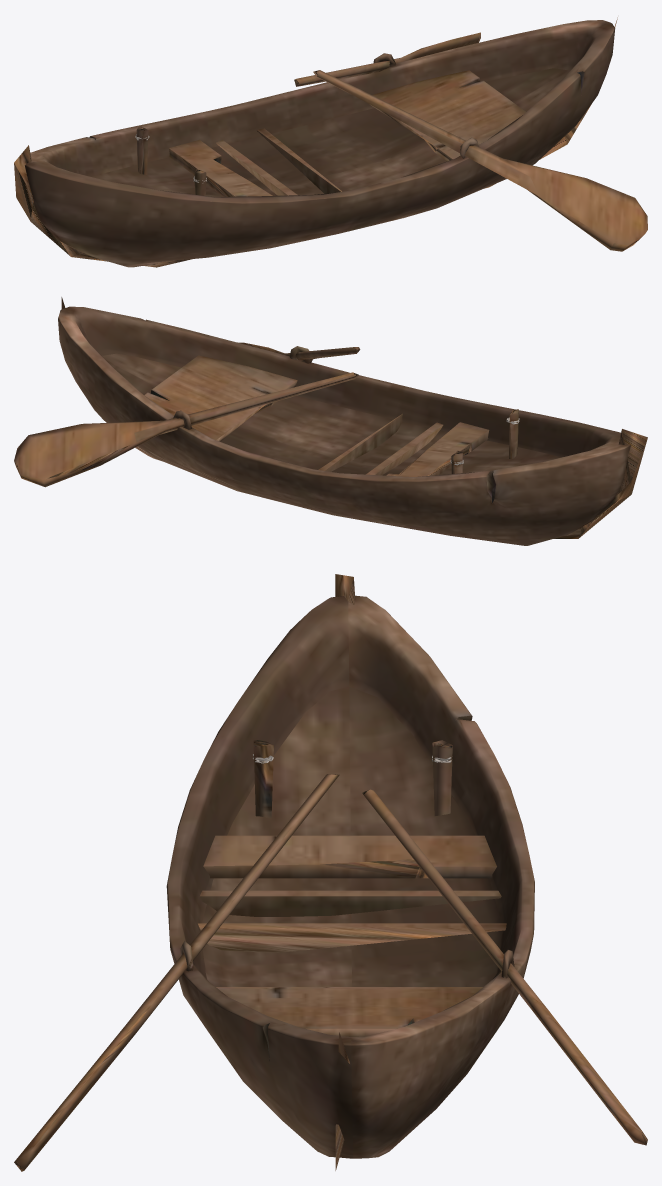
Rendered from thuyen-go-cu.glb.
3 views of the same model, one above another, from view 1: azimuth 30°, elevation 25°; view 2: azimuth 150°, elevation 25°; view 3: azimuth 270°, elevation 25° (orthographic). The views are drawn at different scales.
Parts seen in each view (by area): view 1: Body, A_4, polySurface4, polySurface3, A_1, polySurface1, polySurface2, polySurface5; view 2: Body, A_4, polySurface4, polySurface3, A_1, polySurface1, polySurface2, polySurface6; view 3: Body, A_4, polySurface3, polySurface4, polySurface1, polySurface2, polySurface6, polySurface5, A_1.
Part boxes in pixels (bbox=[...]): Body: bbox=[25, 20, 615, 267]; A_4: bbox=[294, 32, 647, 251]; polySurface4: bbox=[370, 70, 525, 161]; polySurface3: bbox=[169, 139, 272, 196]; A_1: bbox=[14, 17, 617, 267]; polySurface1: bbox=[257, 128, 341, 193]; polySurface2: bbox=[216, 140, 297, 195]; polySurface5: bbox=[136, 126, 148, 174]; Body: bbox=[58, 306, 630, 545]; A_4: bbox=[14, 342, 360, 487]; polySurface4: bbox=[144, 355, 297, 441]; polySurface3: bbox=[386, 422, 489, 476]; A_1: bbox=[61, 297, 647, 538]; polySurface1: bbox=[318, 413, 402, 471]; polySurface2: bbox=[366, 422, 443, 475]; polySurface6: bbox=[509, 409, 518, 458]; Body: bbox=[166, 595, 534, 1158]; A_4: bbox=[14, 774, 647, 1171]; polySurface3: bbox=[203, 835, 496, 878]; polySurface4: bbox=[216, 987, 482, 1036]; polySurface1: bbox=[198, 923, 506, 952]; polySurface2: bbox=[199, 890, 501, 916]; polySurface6: bbox=[253, 740, 273, 817]; polySurface5: bbox=[432, 740, 452, 815]; A_1: bbox=[335, 574, 355, 1170].
Bounding box in the file's own units: 0.9959 × 0.251 × 0.5844.
3 materials, 3 textured.
